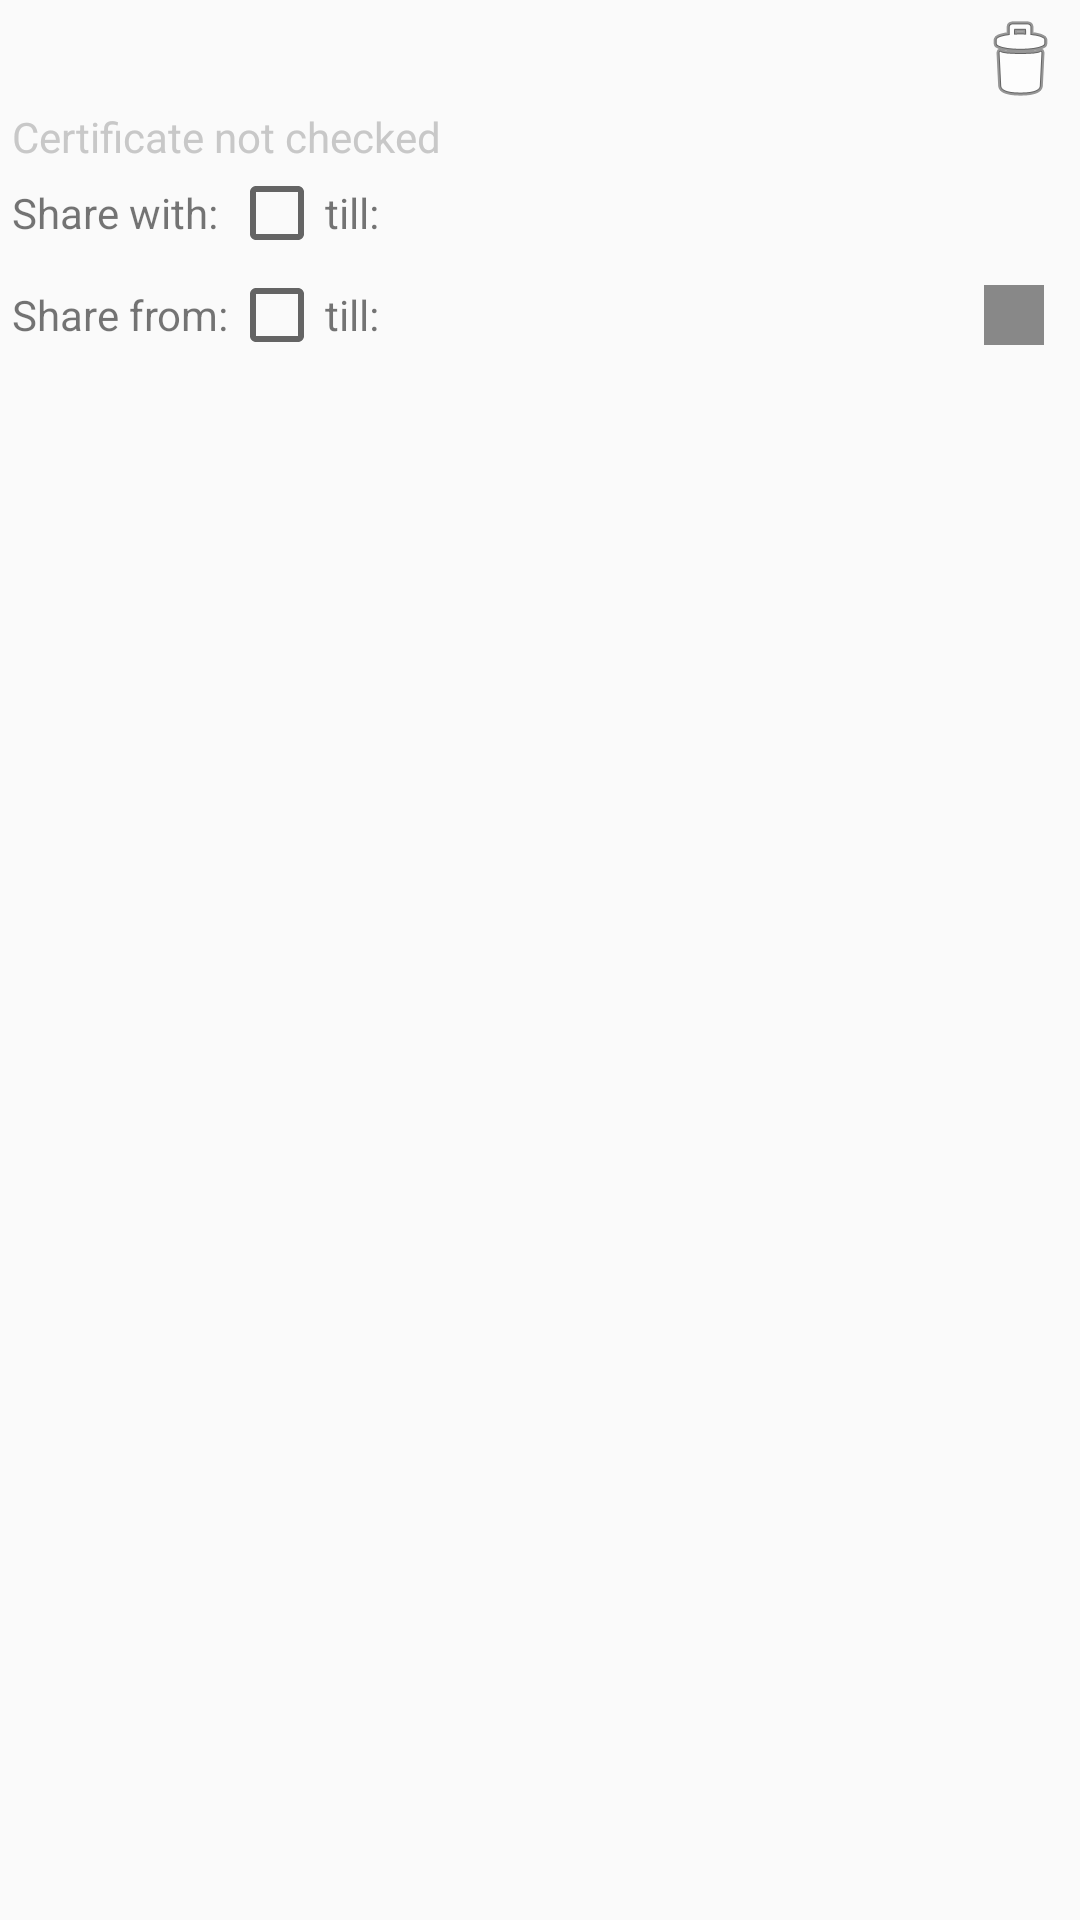

Where icons sit on this 1080x1920 app screen, as (x1, y1, x2, y2):
Delete: (993, 21, 1048, 96)
